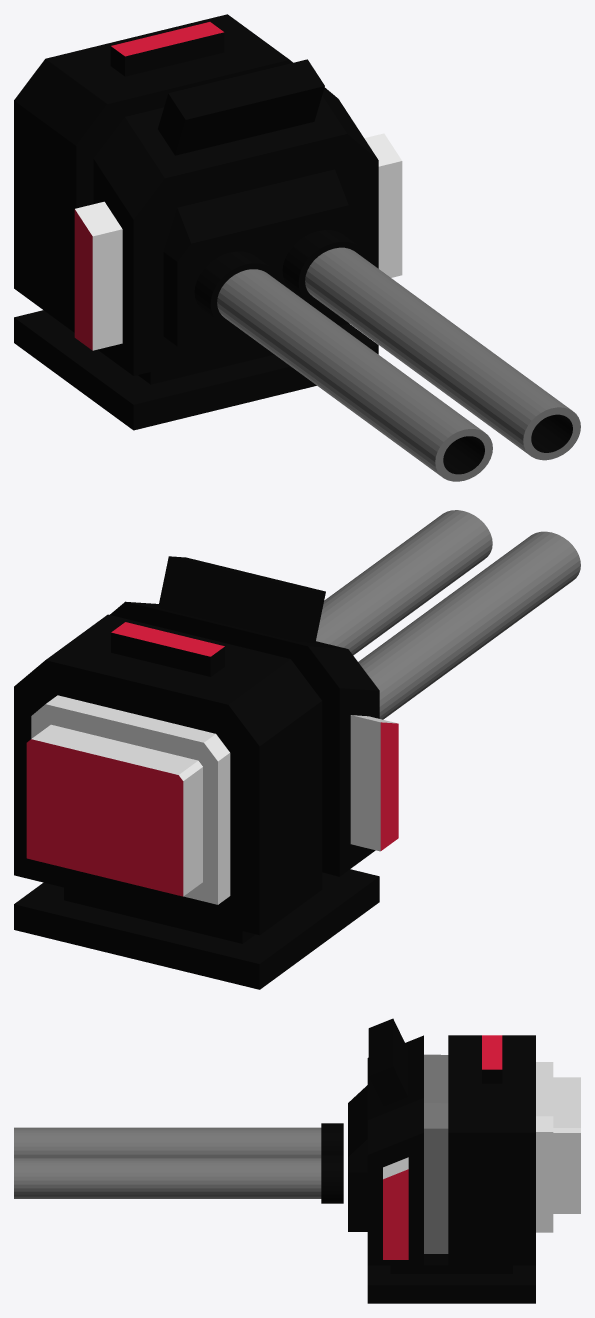
File: Weapon1_Level_2.fbx
3 views of the same model, one above another, from view 1: azimuth 30°, elevation 25°; view 2: azimuth 150°, elevation 25°; view 3: azimuth 270°, elevation 25° (orthographic). The views are drawn at different scales.
Parts seen in each view (by area): view 1: Weapon.001; view 2: Weapon.001; view 3: Weapon.001.
Part boxes in pixels (bbox=[...]): Weapon.001: bbox=[14, 14, 580, 481]; Weapon.001: bbox=[14, 510, 580, 989]; Weapon.001: bbox=[14, 1018, 580, 1303].
Bounding box in the file's own units: 28.08 × 26.97 × 63.27.
